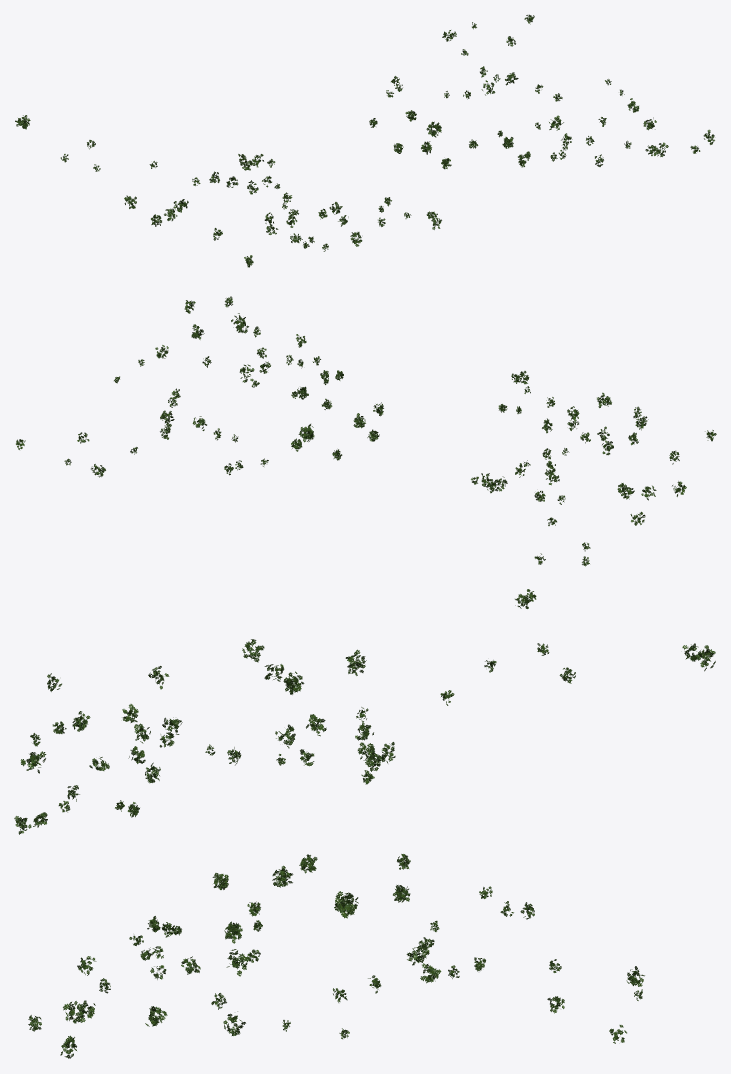
The model's file is Canopy_Detail.glb.
3 renders of one model, top to bottom at view 1: azimuth 30°, elevation 25°; view 2: azimuth 150°, elevation 25°; view 3: azimuth 270°, elevation 25°, orthographic. The views are drawn at different scales.
Visible parts, largest first — view 1: Detailed_foliage_at_locked_canopies; view 2: Detailed_foliage_at_locked_canopies; view 3: Detailed_foliage_at_locked_canopies.
Part boxes in pixels (x1,y1,x2,y2): Detailed_foliage_at_locked_canopies: [15, 14, 714, 267]; Detailed_foliage_at_locked_canopies: [16, 296, 716, 608]; Detailed_foliage_at_locked_canopies: [14, 639, 715, 1058].
Bounding box in the file's own units: 269 × 12.6 × 194.
1 material, 1 textured.
